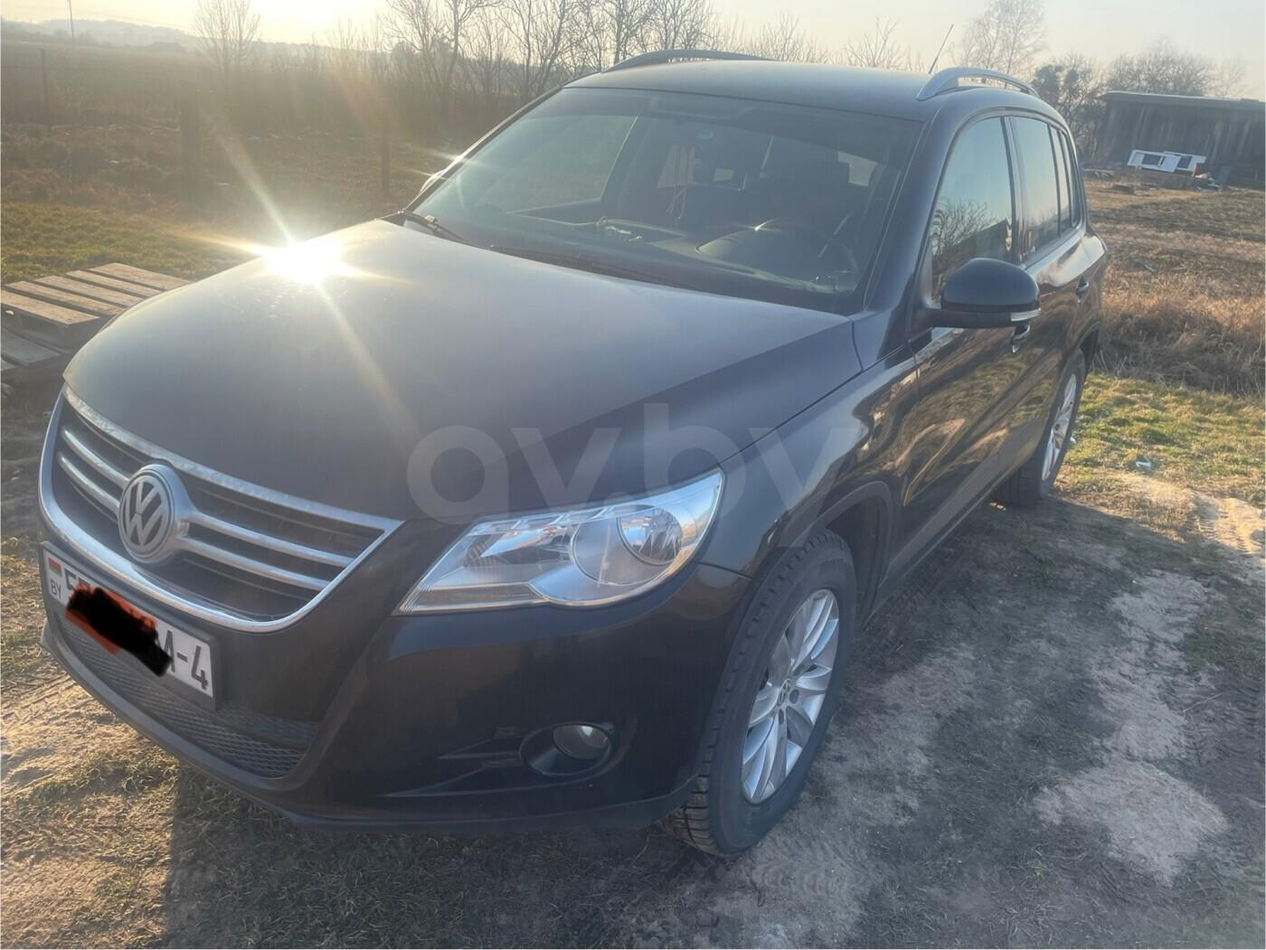Tiguan_2007-2011: (26, 52, 1103, 868)
